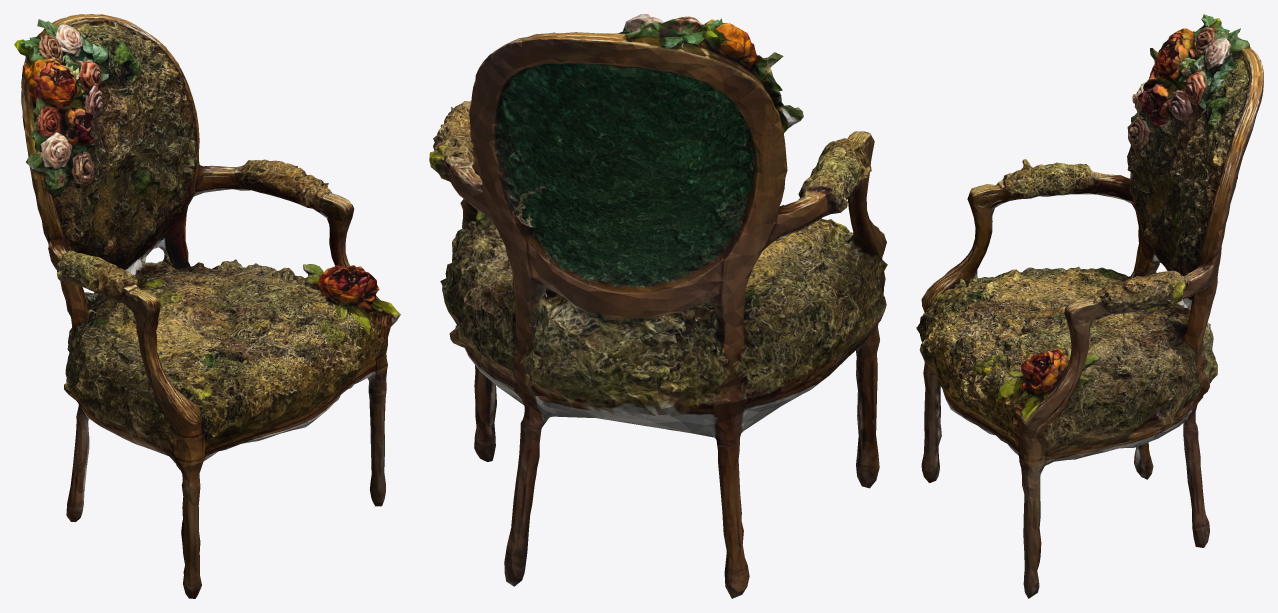
Rendered from Moss covered chair .glb.
3 renders of one model, left to right at view 1: azimuth 30°, elevation 25°; view 2: azimuth 150°, elevation 25°; view 3: azimuth 270°, elevation 25°, orthographic. The views are drawn at different scales.
Size of the model in its own units: 0.8095 by 1.14 by 0.7804.
Materials: 1 (1 with a texture image).
